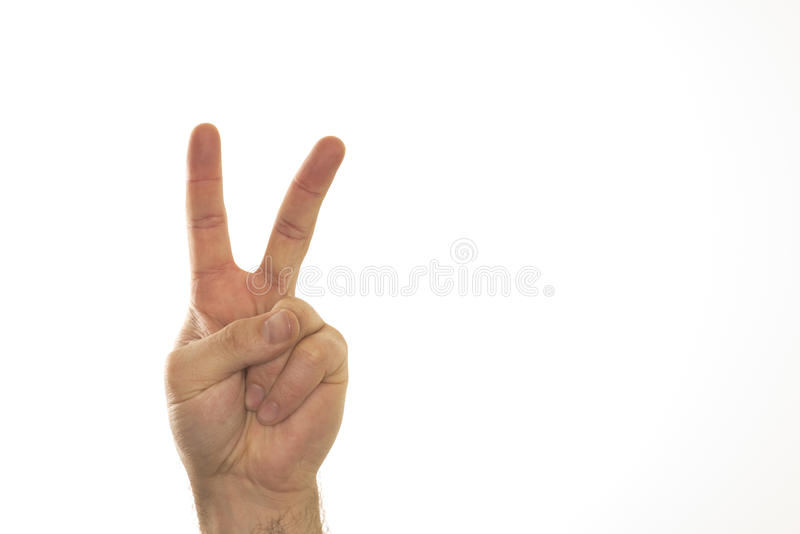v_s: (146, 102, 371, 500)
